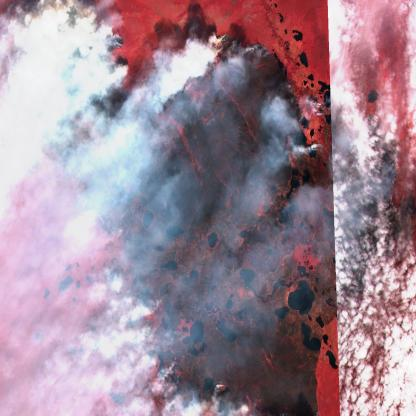fire: (20, 0, 398, 215), (104, 272, 263, 416)
